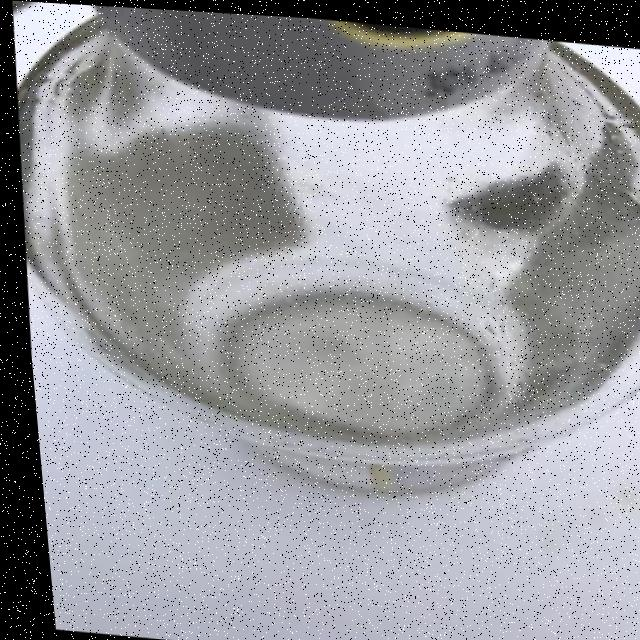glass: (0, 0, 640, 525)
